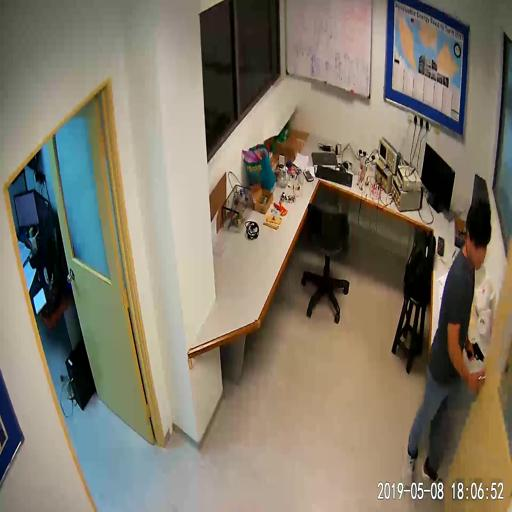pistol: (466, 336, 485, 363)
